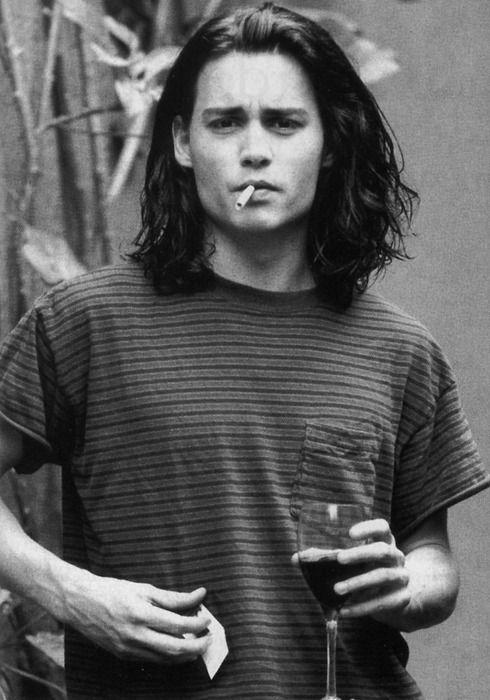cigarette: (234, 184, 255, 209)
